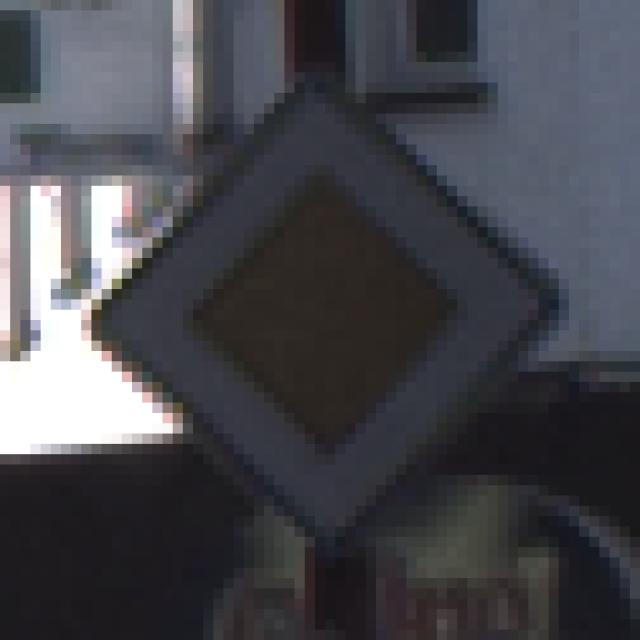Main Road: (62, 53, 590, 590)
